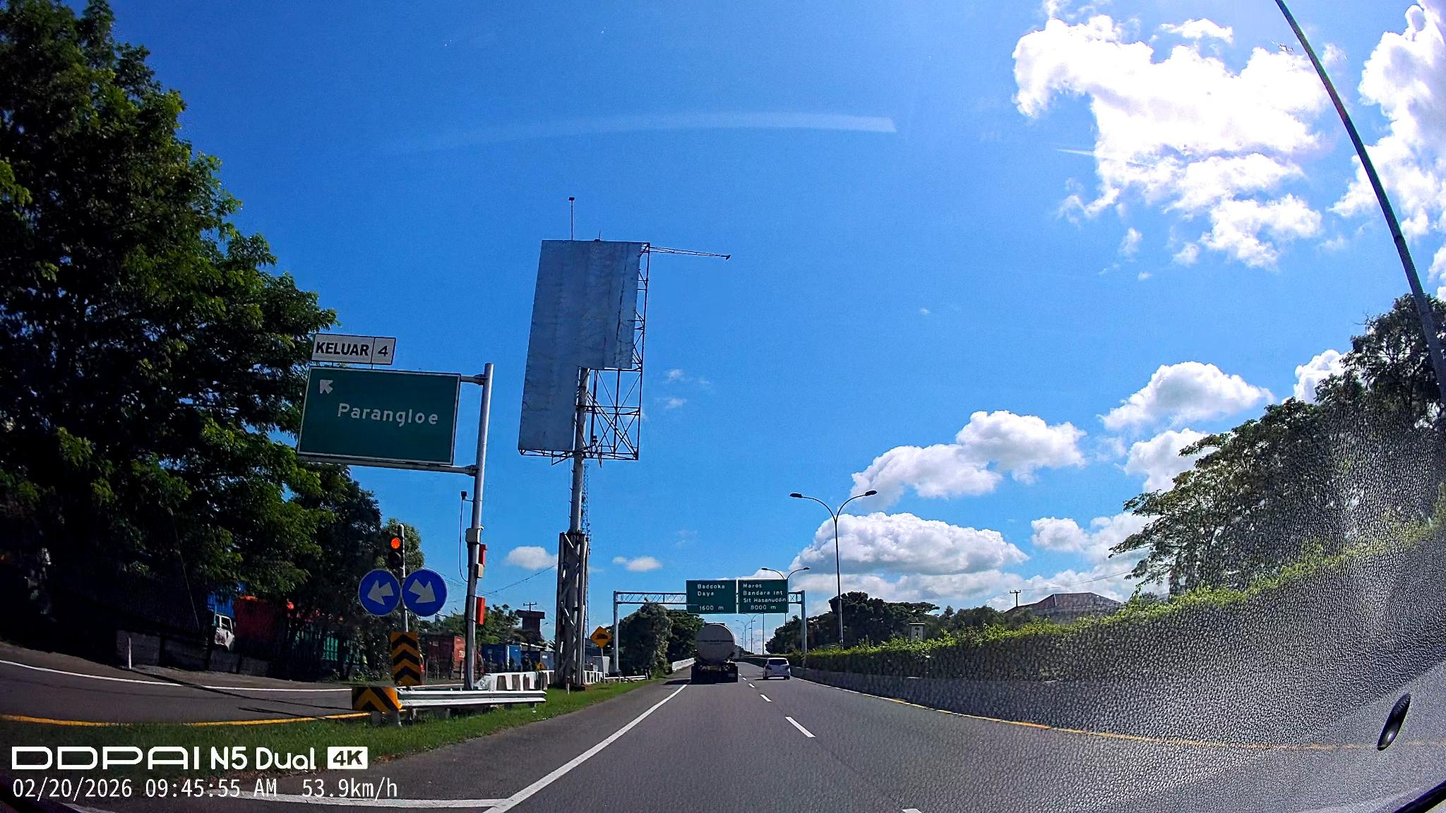rambu_teks: (294, 365, 464, 467)
